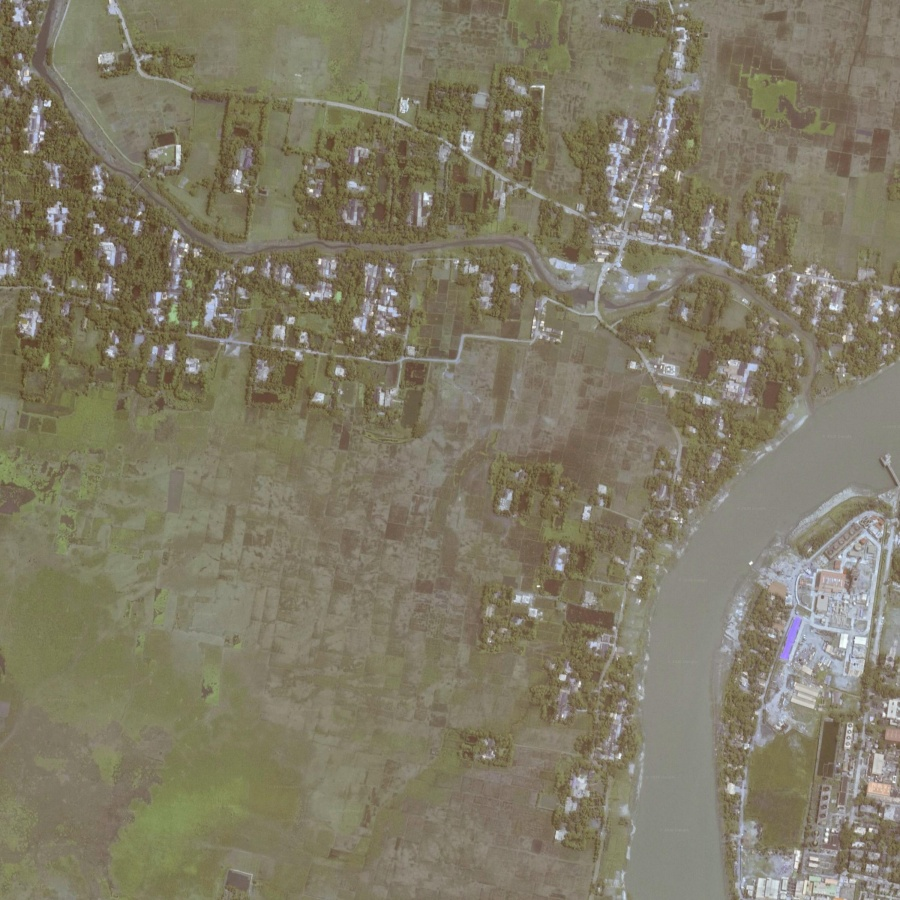PowerPlant: (807, 522, 878, 677)
